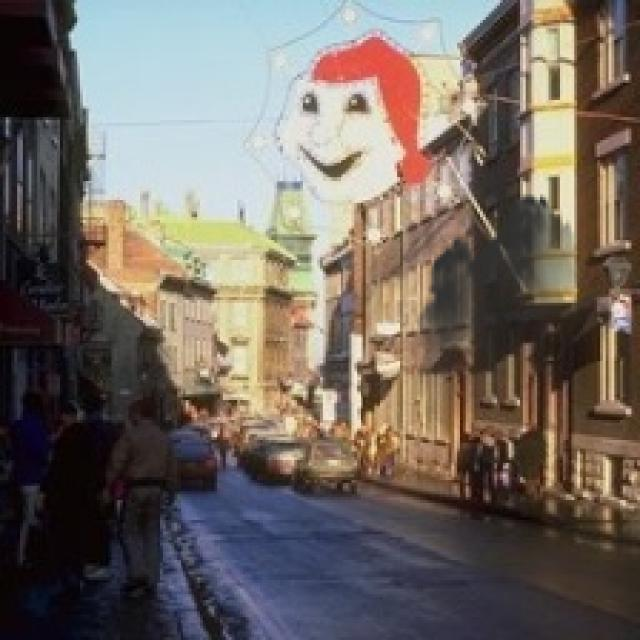smoke: (411, 183, 620, 446)
